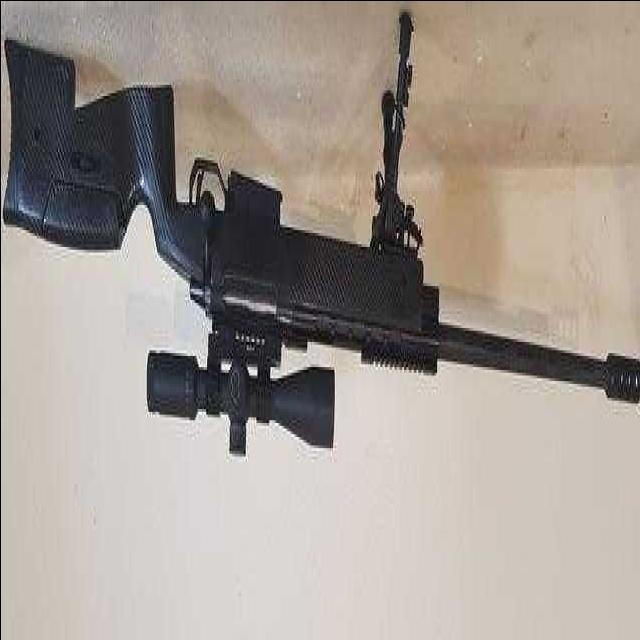heavyweapon: (1, 15, 640, 476)
